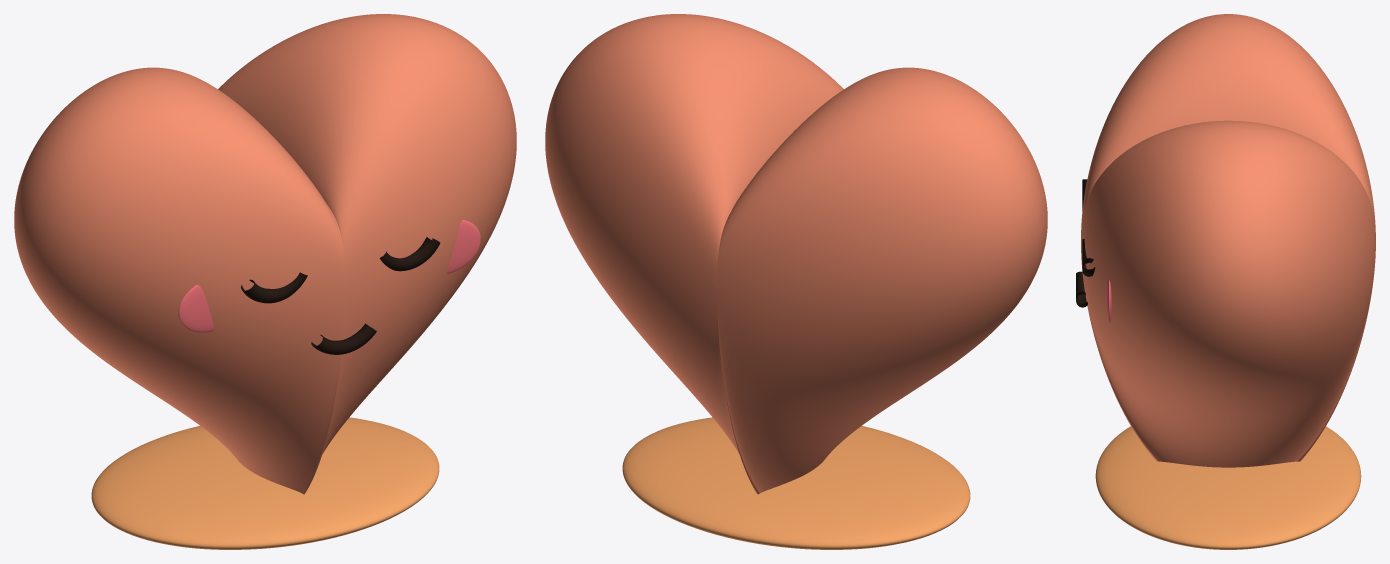
The model's file is companion.obj.
The picture shows the model from 3 angles, left to right: view 1: azimuth 30°, elevation 25°; view 2: azimuth 150°, elevation 25°; view 3: azimuth 270°, elevation 25°; orthographic projection. The views are drawn at different scales.
Visible parts, largest first — view 1: body, underglow, cheek_left, cheek_right, mouth, eye_right, eye_left; view 2: body, underglow; view 3: body, underglow.
Part boxes in pixels (left/top/right/bottom): body: left=14, top=14, right=516, bottom=494; underglow: left=91, top=417, right=439, bottom=549; cheek_left: left=178, top=285, right=213, bottom=332; cheek_right: left=447, top=220, right=480, bottom=273; mouth: left=311, top=323, right=376, bottom=354; eye_right: left=379, top=237, right=440, bottom=271; eye_left: left=241, top=272, right=307, bottom=303; body: left=545, top=14, right=1047, bottom=494; underglow: left=622, top=417, right=970, bottom=549; body: left=1081, top=14, right=1375, bottom=467; underglow: left=1095, top=426, right=1361, bottom=549.
Size of the model in its own units: 0.4 by 0.3615 by 0.2338.
